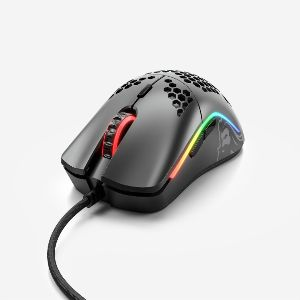mouse: (53, 66, 252, 225)
